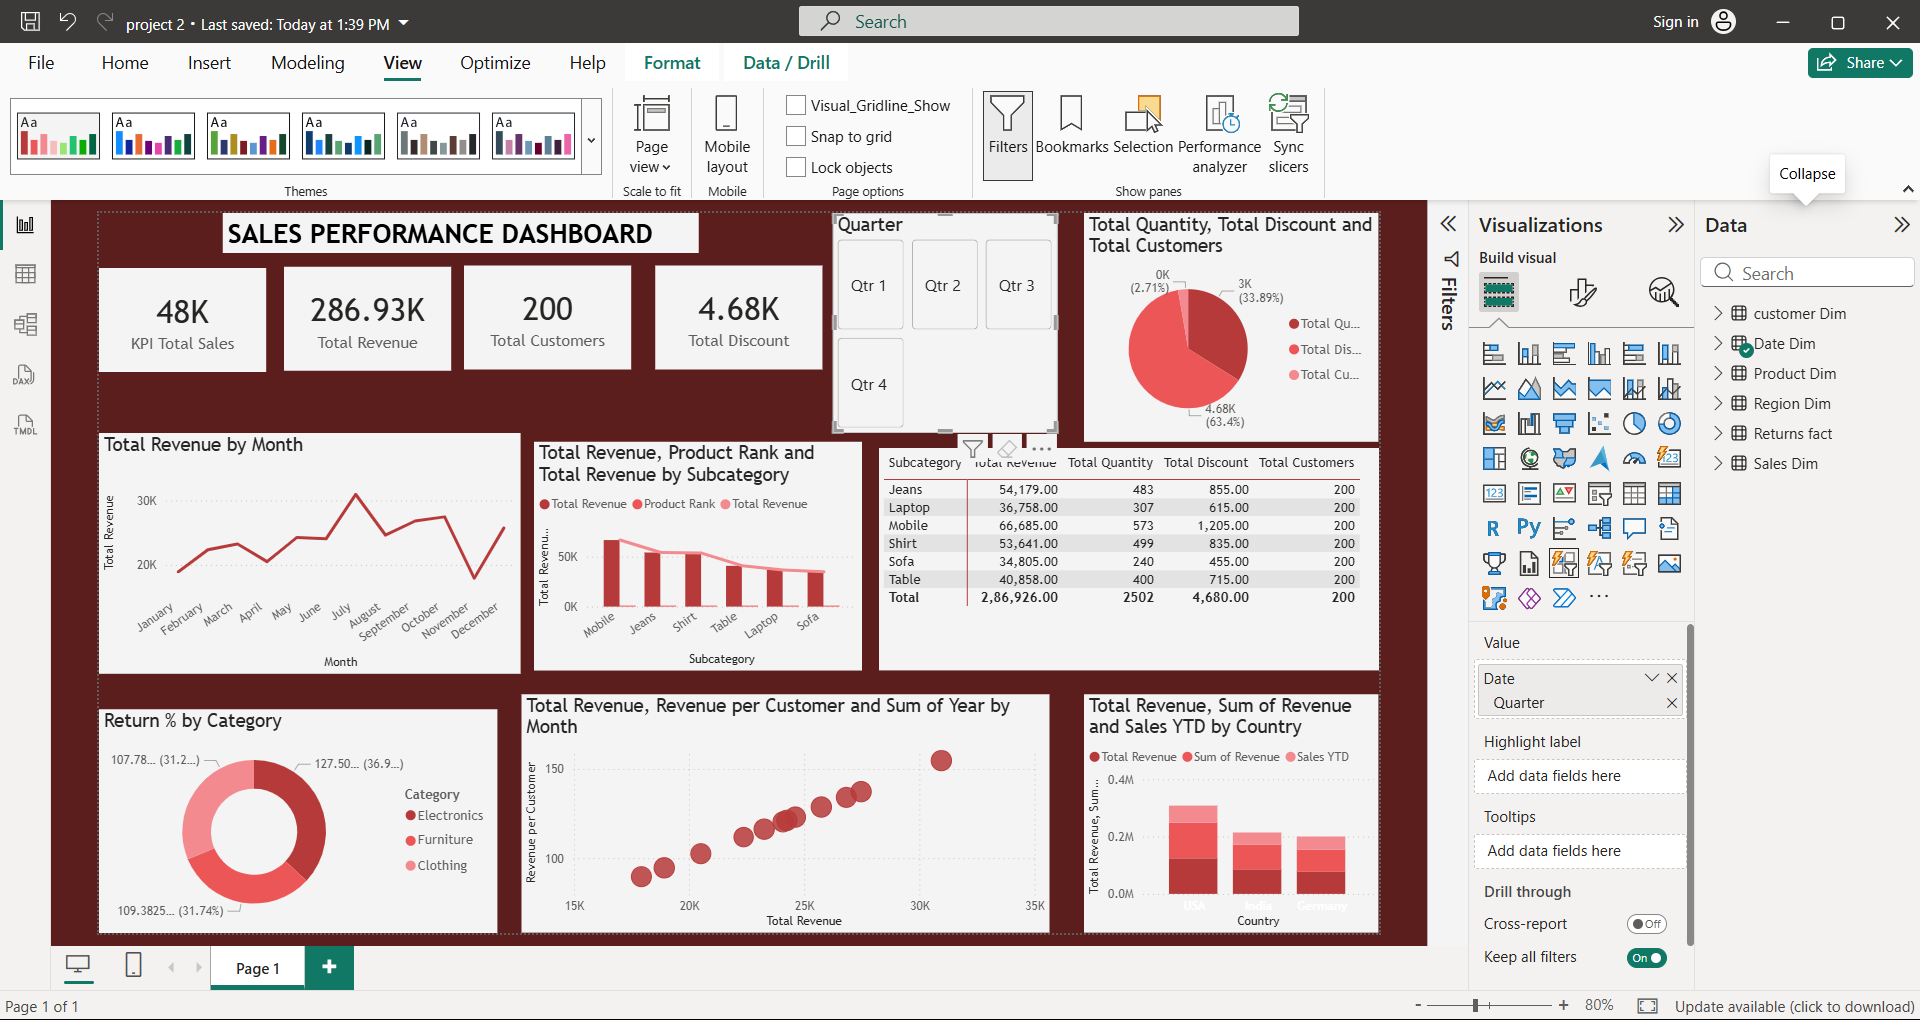

The dashboard page shown, as its layout file describes it:
{"tool":"powerbi","page":{"name":"Page 1","canvas":[1280,720],"ordinal":0},"visuals":[{"type":"card","fields":{"Values":["Date Dim.KPI Total Sales"]},"box":[0,55,167.5,103.9],"z":0},{"type":"textbox","box":[123.5,0,475.7,40.4],"z":1000},{"type":"card","fields":{"Values":["Date Dim.Total Revenue"]},"box":[184.6,53.8,167.5,103.9],"z":2000},{"type":"card","fields":{"Values":["Date Dim.Total Discount"]},"box":[556.4,52.6,167.5,103.9],"z":3000},{"type":"card","fields":{"Values":["Date Dim.Total Customers"]},"box":[364.4,52.6,167.5,103.9],"z":4000},{"type":"columnChart","fields":{"Category":["Region Dim.Country"],"Y":["Date Dim.Total Revenue","Sum(Sales Dim.Revenue)","Date Dim.Sales YTD"]},"box":[985.6,481.8,294.7,238.5],"z":5000},{"type":"lineClusteredColumnComboChart","fields":{"Category":["Product Dim.Subcategory"],"Y":["Date Dim.Total Revenue","Date Dim.Product Rank"],"Y2":["Date Dim.Total Revenue"]},"box":[435.3,228.7,327.7,228.7],"z":6000},{"type":"lineChart","fields":{"Y":["Date Dim.Total Revenue"],"Category":["Date Dim.Date.Variation.Date Hierarchy.Month"]},"box":[0,220.1,421.9,240.9],"z":7000},{"type":"pieChart","fields":{"Y":["Date Dim.Total Quantity","Date Dim.Total Discount","Date Dim.Total Customers"]},"box":[985.6,0,294.7,228.7],"z":8000},{"type":"donutChart","fields":{"Y":["Date Dim.Return %"],"Category":["Product Dim.Category"]},"box":[0,496.5,398.6,223.8],"z":9000},{"type":"pivotTable","fields":{"Values":["Date Dim.Total Revenue","Date Dim.Total Quantity","Date Dim.Total Discount","Date Dim.Total Customers"],"Rows":["Product Dim.Subcategory"]},"box":[780.2,234.8,500.1,222.6],"z":10000},{"type":"advancedSlicerVisual","fields":{"Values":["Date Dim.Date.Variation.Date Hierarchy.Quarter"]},"box":[733.7,0,225,220.1],"z":11000},{"type":"scatterChart","fields":{"X":["Date Dim.Total Revenue"],"Y":["Date Dim.Revenue per Customer"],"Size":["Sum(Date Dim.Year)"],"Category":["Date Dim.Month"]},"box":[421.9,481.8,528.3,238.5],"z":12000}]}

Visuals, with their boxes on the page's 1280x720 design canvas (x1, y1, x2, y2). These are canvas units, not pixel positions in the 1920x1020 screenshot, which may show the page scaled, cropped or inside an application window:
card - Date Dim.KPI Total Sales: (0,55,168,159)
textbox: (124,0,599,40)
card - Date Dim.Total Revenue: (185,54,352,158)
card - Date Dim.Total Discount: (556,53,724,156)
card - Date Dim.Total Customers: (364,53,532,156)
columnChart - Region Dim.Country x Date Dim.Total Revenue: (986,482,1280,720)
lineClusteredColumnComboChart - Product Dim.Subcategory x Date Dim.Total Revenue: (435,229,763,457)
lineChart - Date Dim.Total Revenue x Date Dim.Date.Variation.Date Hierarchy.Month: (0,220,422,461)
pieChart - Date Dim.Total Quantity x Date Dim.Total Discount: (986,0,1280,229)
donutChart - Date Dim.Return % x Product Dim.Category: (0,496,399,720)
pivotTable - Date Dim.Total Revenue x Date Dim.Total Quantity: (780,235,1280,457)
advancedSlicerVisual - Date Dim.Date.Variation.Date Hierarchy.Quarter: (734,0,959,220)
scatterChart - Date Dim.Total Revenue x Date Dim.Revenue per Customer: (422,482,950,720)
